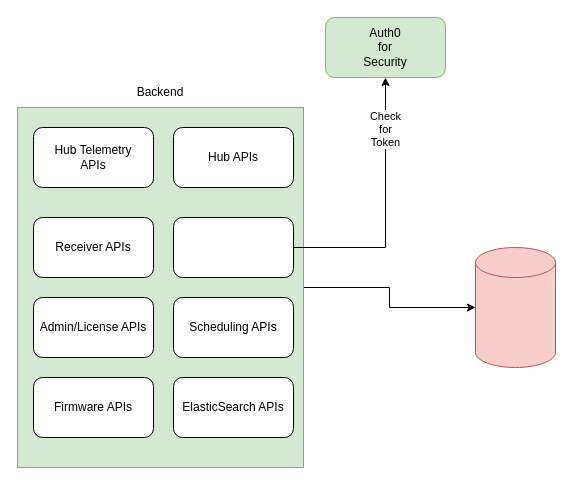
The diagram is 573 pixels wide and 485 high, and some of its shapes have lost their labels. The shapes that lost their labels are listed below. From the top down, each one's centre as x and y in pixels, then its label:
the point at 233,247: Provisioning APIs
the point at 515,307: Postgresql
